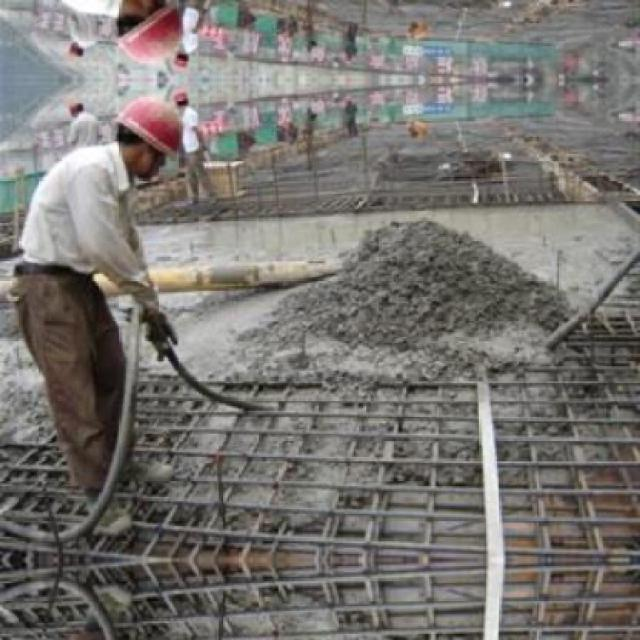helmet: (108, 92, 183, 178), (108, 0, 184, 69)
